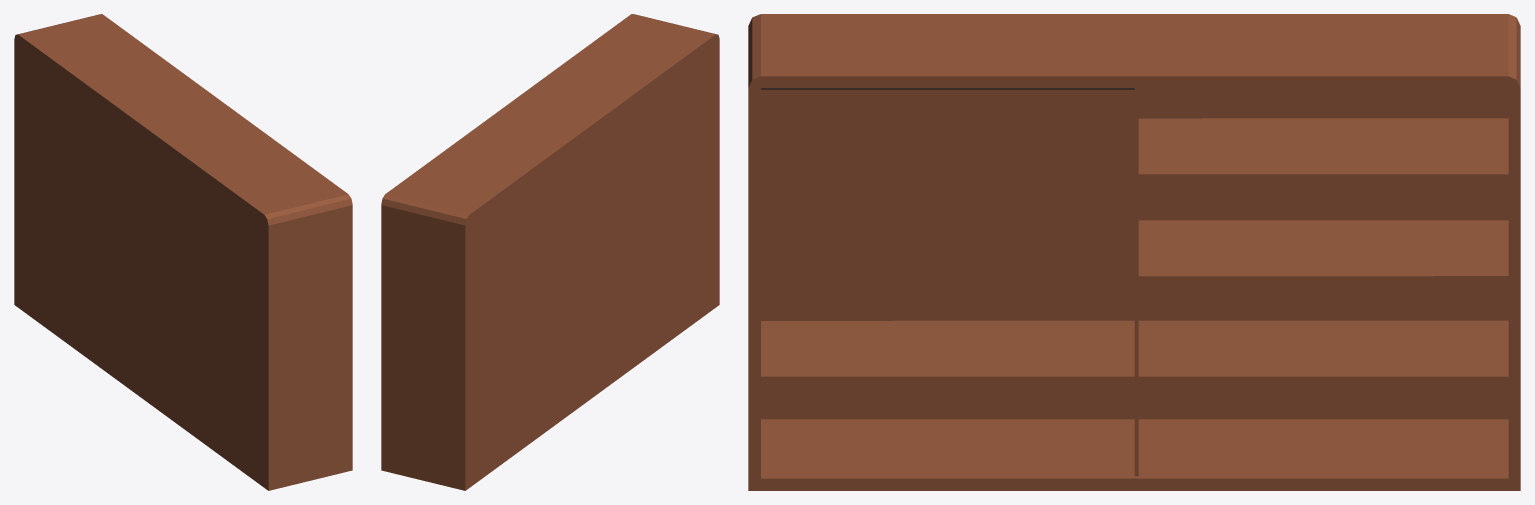
The model's file is 2021bookshelf_2.fbx.
3 renders of one model, left to right at view 1: azimuth 30°, elevation 25°; view 2: azimuth 150°, elevation 25°; view 3: azimuth 270°, elevation 25°, orthographic. The views are drawn at different scales.
Visible parts, largest first — view 1: Cube; view 2: Cube; view 3: Cube.
Boxes of the visible parts, <box> form: Cube: <box>14,14,352,490</box>; Cube: <box>381,14,719,490</box>; Cube: <box>748,14,1520,490</box>.
Bounding box in the file's own units: 115 × 356 × 600.
